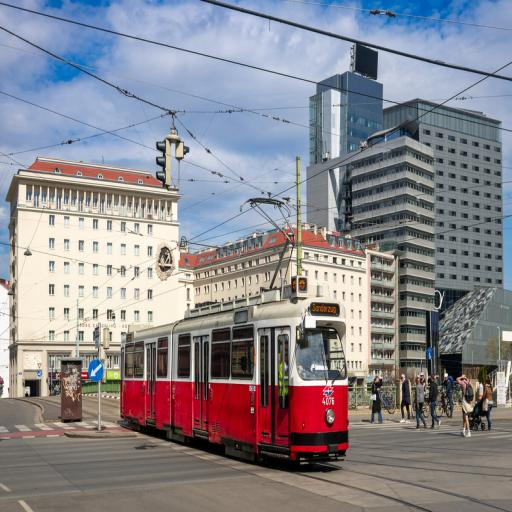E2-Tram: (121, 276, 351, 460)
